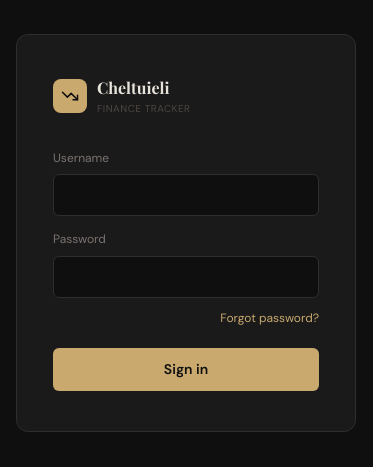
Test: Login page › shows error message on failed login
Type "admin" into the field labelled "Username". click: (186, 195)
box: [53, 174, 319, 216]
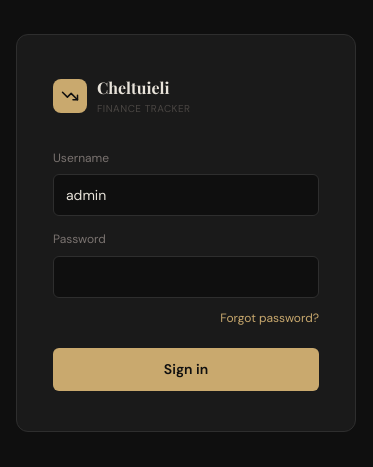
Type "wrong" into the password field labelled "Password". click: (186, 277)
box: [53, 256, 319, 298]
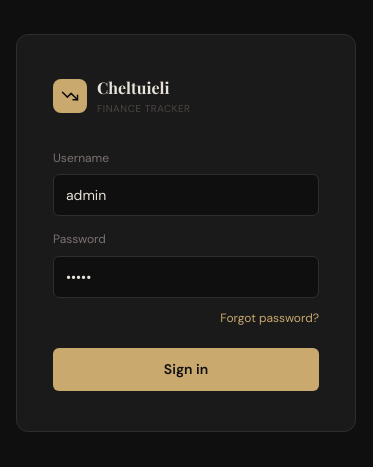
Click the button "Sign in". click: (186, 370)
box: [53, 348, 319, 391]
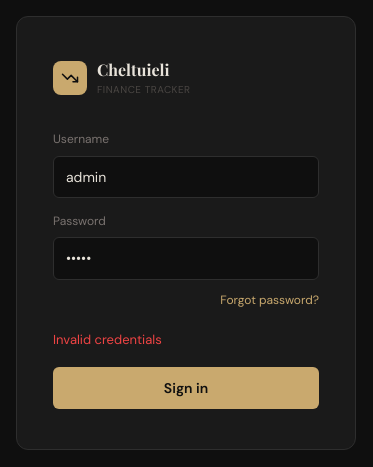
Result: the text "Invalid credentials" is shown at [53, 331, 162, 348]
